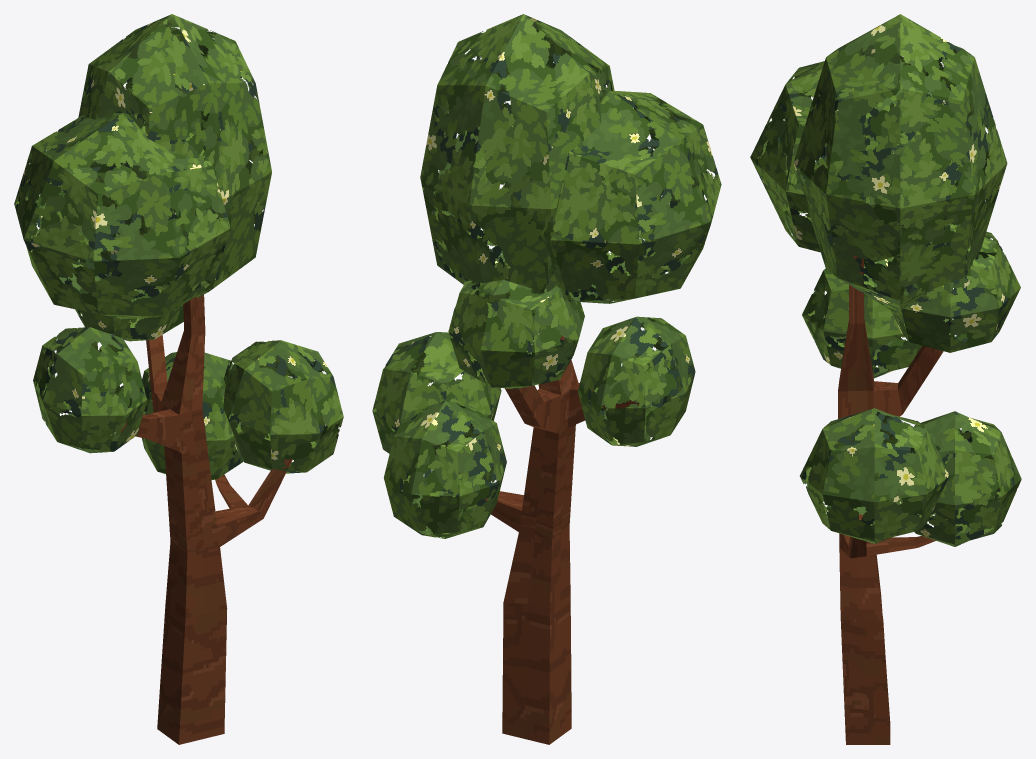
File: Tree3.fbx
3 views of the same model, side by side, from view 1: azimuth 30°, elevation 25°; view 2: azimuth 150°, elevation 25°; view 3: azimuth 270°, elevation 25° (orthographic). The views are drawn at different scales.
Visible parts, largest first — view 1: Plane.004, Cube.008; view 2: Plane.004, Cube.008; view 3: Plane.004, Cube.008.
Boxes of the visible parts, left/top/right/bottom form: Plane.004: left=14, top=14, right=343, bottom=479; Cube.008: left=120, top=294, right=292, bottom=744; Plane.004: left=372, top=14, right=721, bottom=538; Cube.008: left=458, top=336, right=639, bottom=744; Plane.004: left=750, top=14, right=1021, bottom=546; Cube.008: left=838, top=255, right=943, bottom=744.
Bounding box in the file's own units: 45.12 × 96.78 × 33.15.
